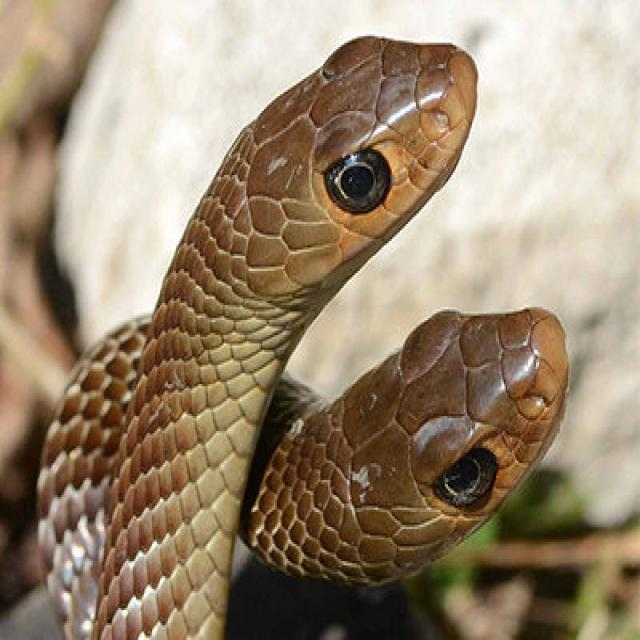Snake: (32, 32, 570, 638)
